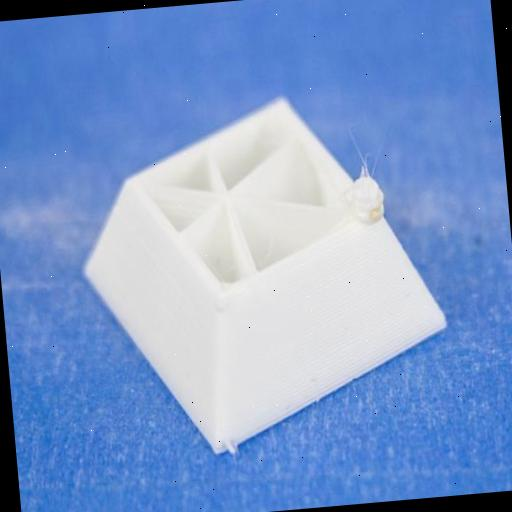blobs: (340, 166, 388, 226)
